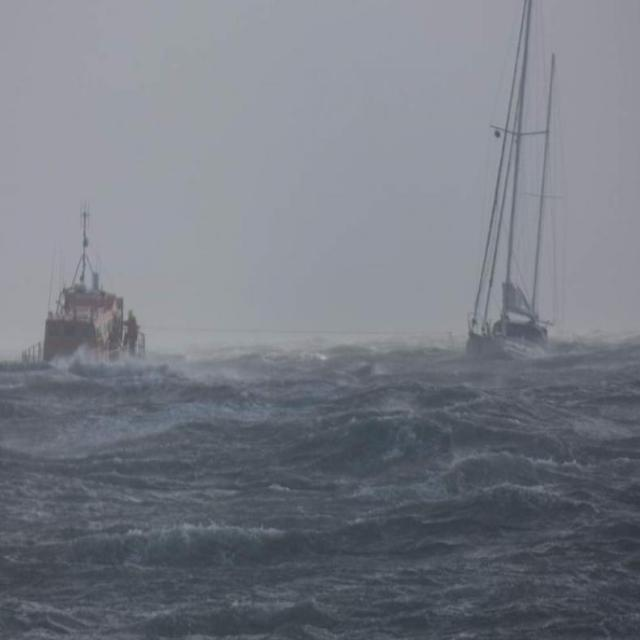fishing boat: (443, 0, 563, 364), (26, 211, 146, 377)
